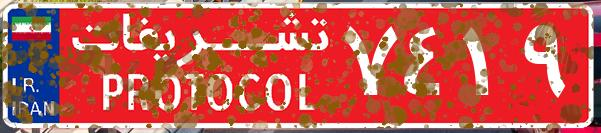1: (460, 20, 520, 115)
4: (400, 20, 460, 115)
7: (340, 20, 400, 115)
9: (520, 20, 580, 115)
تشریفات: (60, 8, 340, 125)
